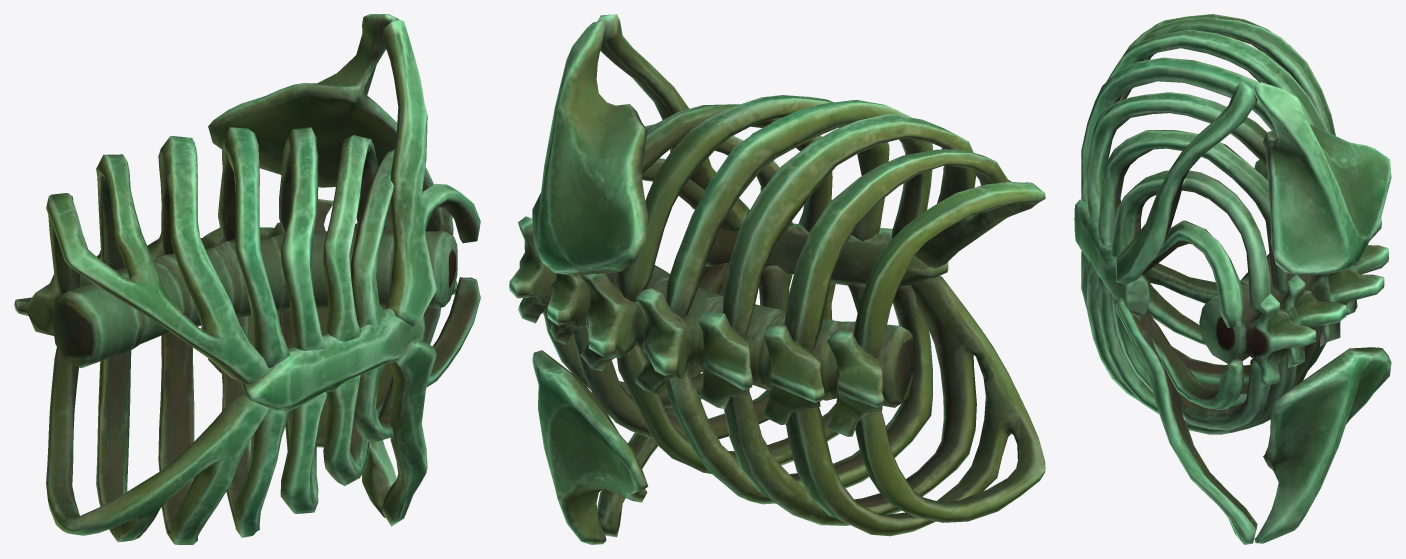
3 views of the same model, side by side, from view 1: azimuth 30°, elevation 25°; view 2: azimuth 150°, elevation 25°; view 3: azimuth 270°, elevation 25° (orthographic). The views are drawn at different scales.
Visible parts, largest first — view 1: SM_U_MED_Skeleton_Human_spine_02_LOD0; view 2: SM_U_MED_Skeleton_Human_spine_02_LOD0; view 3: SM_U_MED_Skeleton_Human_spine_02_LOD0.
Boxes of the visible parts, bbox=[...] form: SM_U_MED_Skeleton_Human_spine_02_LOD0: bbox=[14, 14, 480, 544]; SM_U_MED_Skeleton_Human_spine_02_LOD0: bbox=[509, 14, 1045, 544]; SM_U_MED_Skeleton_Human_spine_02_LOD0: bbox=[1074, 14, 1391, 544].
Bounding box in the file's own units: 0.4145 × 0.4446 × 0.2767.
Materials: 1 (1 with a texture image).
